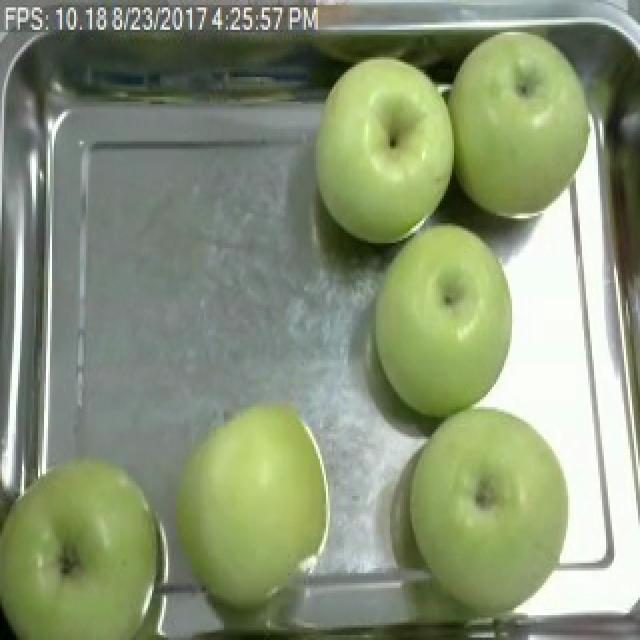50-_ripeness: (150, 387, 359, 600), (294, 27, 466, 247), (436, 28, 622, 227), (380, 209, 539, 427), (400, 404, 567, 609), (0, 455, 168, 640), (465, 0, 466, 1)
